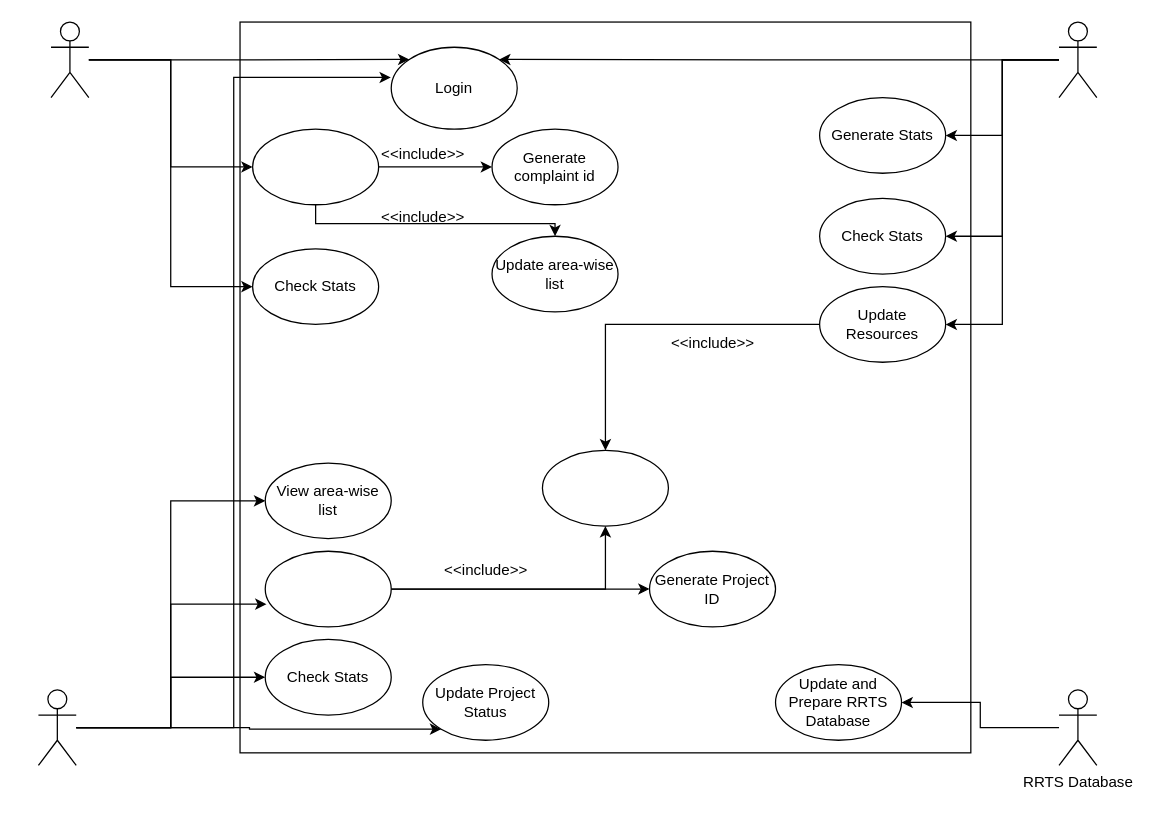
Some shapes in this 1154 by 814 pixel diagram are drawn without their labels. Each missing label, with the centre of its shape:
"Add Complaint" belongs at point (315, 166).
"Admin" belongs at point (1077, 59).
"Citizens" belongs at point (69, 59).
"Optimal Scheduling" belongs at point (604, 487).
"Supervisor" belongs at point (56, 727).
"Update reqd resources & priority" belongs at point (327, 588).
